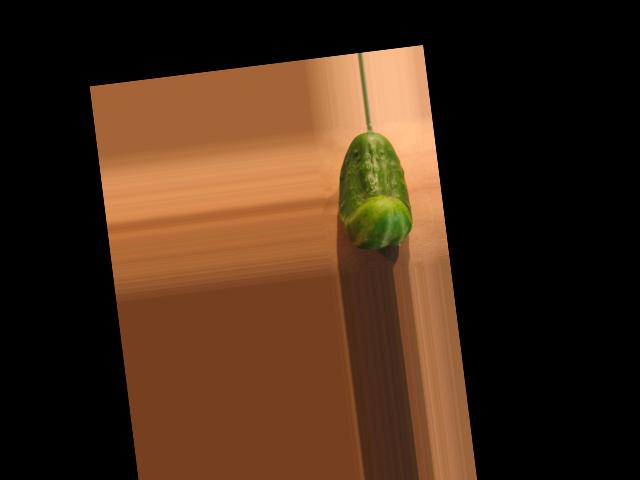cucumber: (330, 127, 416, 252)
